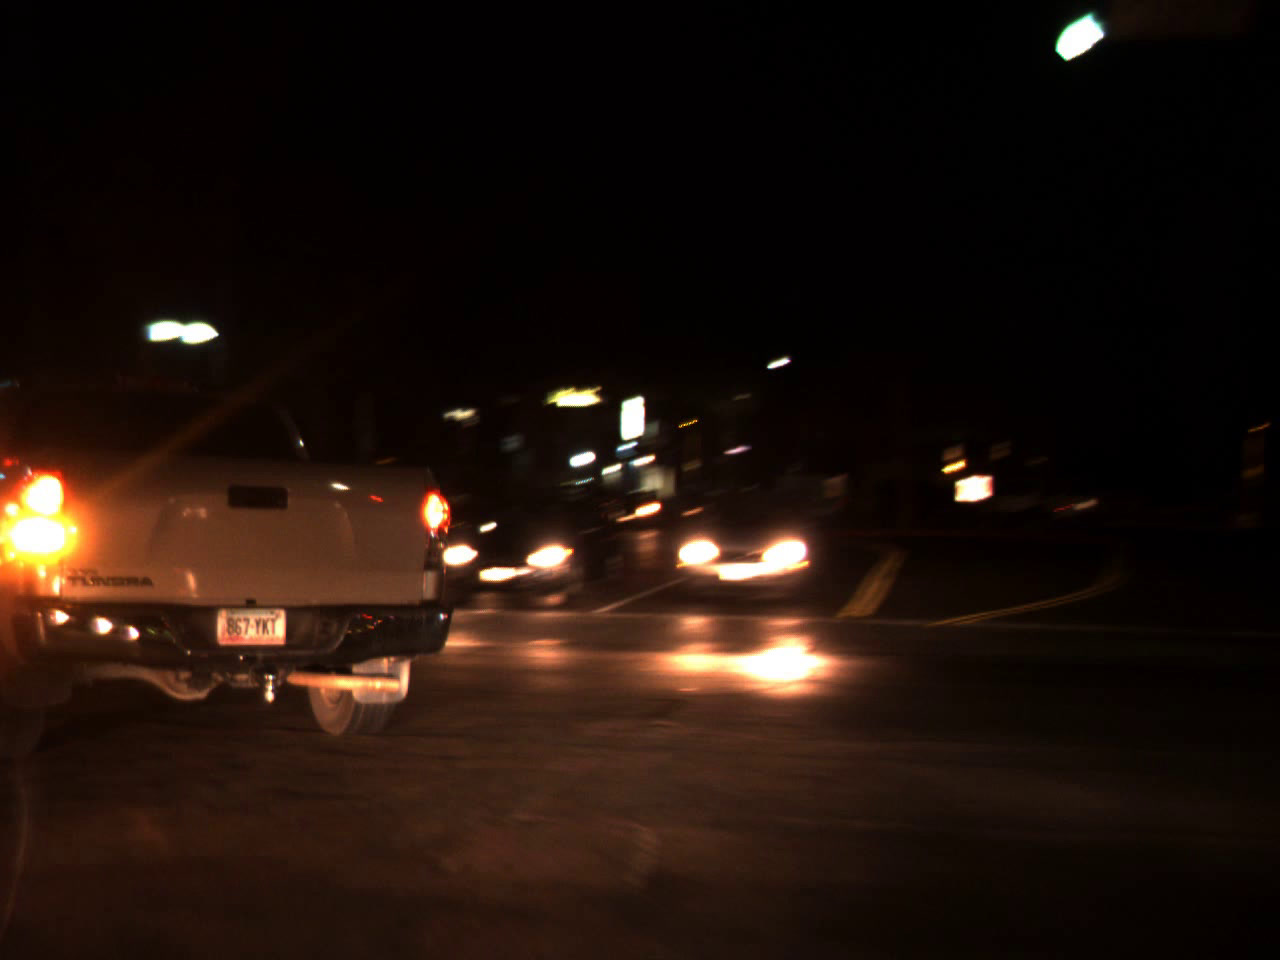go: (1029, 0, 1120, 81)
